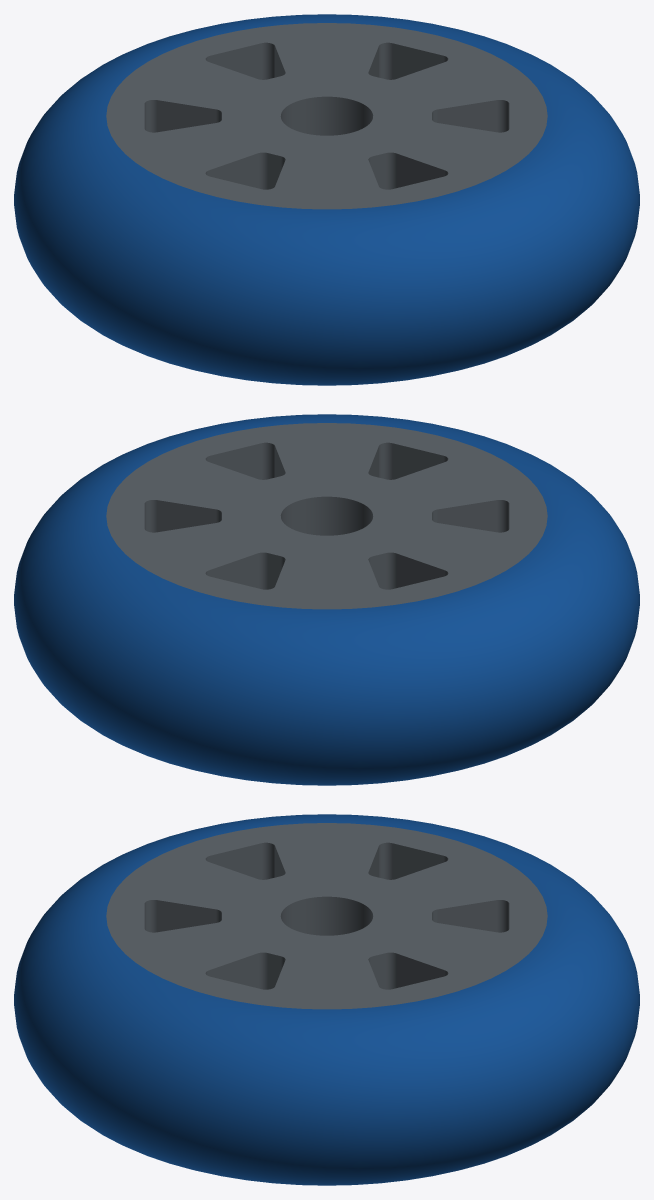
Rendered from Llanta.obj.
The picture shows the model from 3 angles, top to bottom: view 1: azimuth 30°, elevation 25°; view 2: azimuth 150°, elevation 25°; view 3: azimuth 270°, elevation 25°; orthographic projection.
Parts seen in each view (by area): view 1: mesh0, mesh2, mesh51, mesh13, mesh41, mesh19, mesh27, mesh5, mesh49; view 2: mesh0, mesh2, mesh51, mesh25, mesh45, mesh3, mesh11, mesh33, mesh37; view 3: mesh0, mesh2, mesh51, mesh9, mesh29, mesh35, mesh43, mesh17, mesh21.
Part boxes in pixels (x1,y1,x2,y2): mesh0: (14,14,639,385); mesh2: (106,23,547,209); mesh51: (280,96,373,135); mesh13: (438,100,496,132); mesh41: (157,100,215,132); mesh19: (392,43,443,79); mesh27: (210,43,261,79); mesh5: (396,153,444,187); mesh49: (209,153,257,187); mesh0: (14,414,639,785); mesh2: (106,423,547,609); mesh51: (280,496,373,535); mesh25: (157,500,215,532); mesh45: (438,500,496,532); mesh3: (392,443,443,479); mesh11: (210,443,261,479); mesh33: (209,553,257,587); mesh37: (396,553,444,587); mesh0: (14,814,639,1185); mesh2: (106,823,547,1009); mesh51: (280,896,373,935); mesh9: (157,900,215,932); mesh29: (438,900,496,932); mesh35: (392,843,443,879); mesh43: (210,843,261,879); mesh17: (209,953,257,987); mesh21: (396,953,444,987).
Bounding box in the file's own units: 0.086 × 0.0254 × 0.086.
